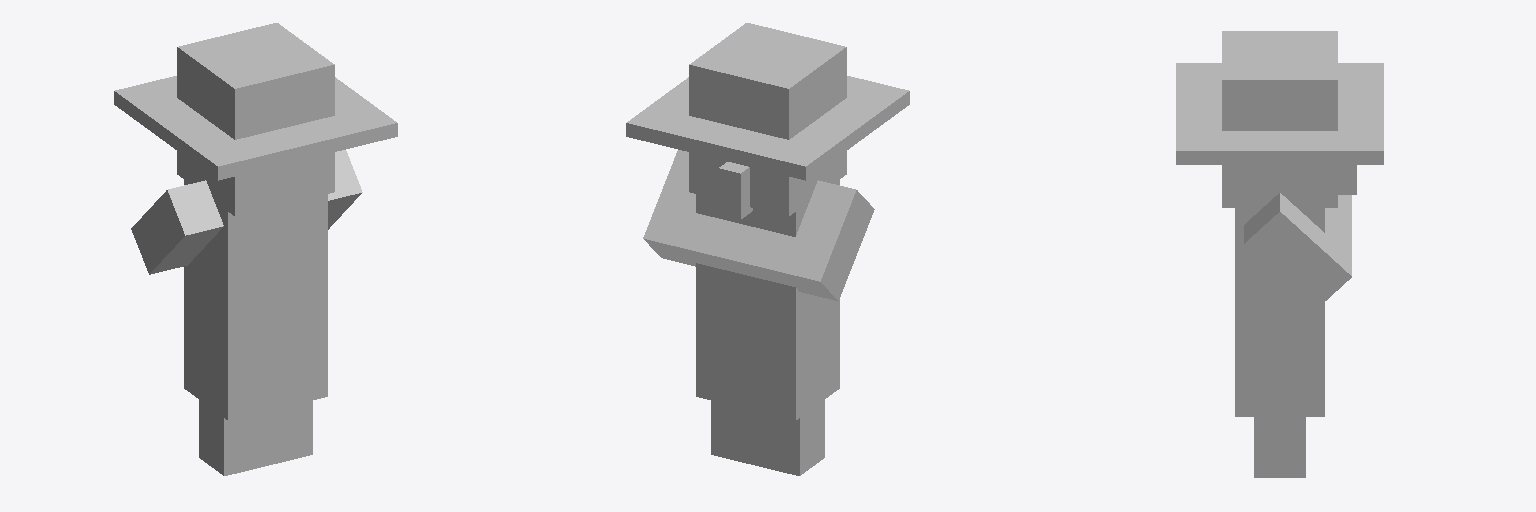
The model's file is donerman_vil.obj.
3 views of the same model, side by side, from view 1: azimuth 30°, elevation 25°; view 2: azimuth 150°, elevation 25°; view 3: azimuth 270°, elevation 25° (orthographic).
Parts seen in each view (by area): view 1: body, helmet, brim, arms, leg1, leg0; view 2: body, helmet, arms, brim, leg1, leg0, nose; view 3: helmet, body, brim, arms, leg0, nose.
Part boxes in pixels (x1,y1,x2,y2): body: (184,169,327,420); helmet: (177,23,334,216); brim: (114,76,397,180); arms: (131,150,362,274); leg1: (199,400,268,475); leg0: (269,401,312,464); body: (696,168,839,420); helmet: (689,23,846,216); arms: (643,150,874,300); brim: (626,76,909,180); leg1: (755,400,824,475); leg0: (711,401,754,464); nose: (718,162,752,219); helmet: (1222,31,1337,207); body: (1235,196,1324,416); brim: (1176,63,1383,164); arms: (1244,193,1351,309); leg0: (1254,417,1305,477); nose: (1338,165,1356,194).
Bounding box in the file's own units: 1.01 × 2.16 × 1.01.